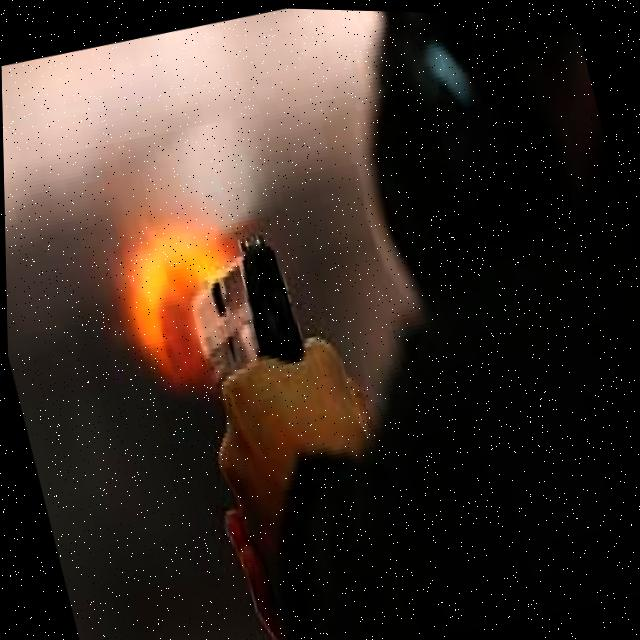pistol: (172, 222, 305, 380)
